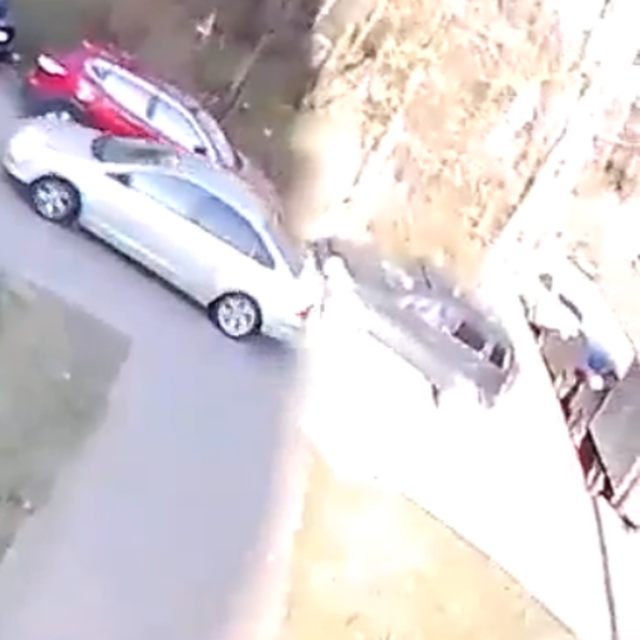car: (4, 117, 315, 342), (26, 38, 287, 249), (314, 234, 519, 412)
